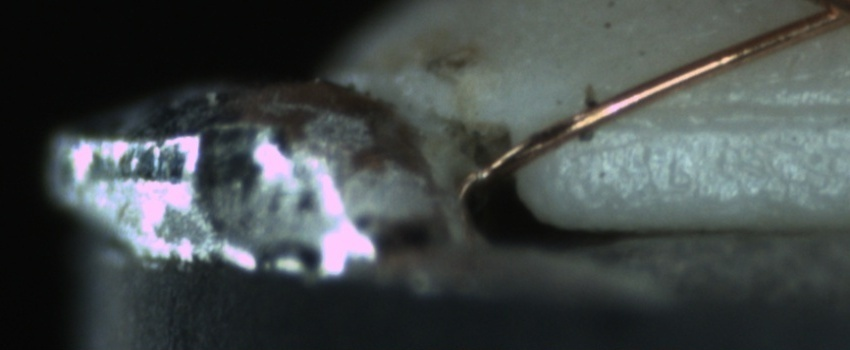CL: (800, 0, 849, 32)
DL: (615, 77, 848, 151)
